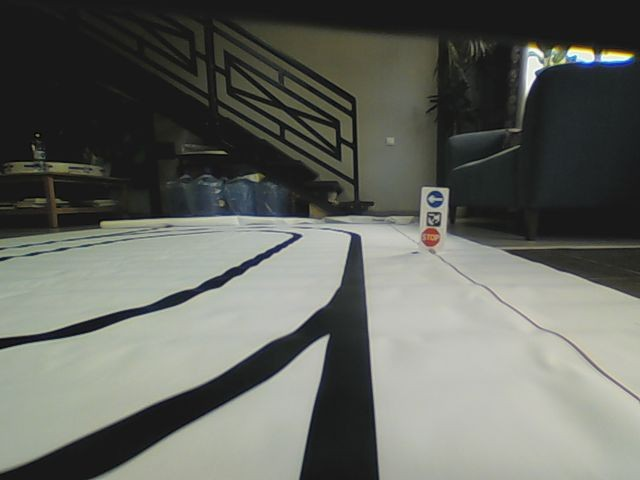Stop: (420, 227, 442, 245)
